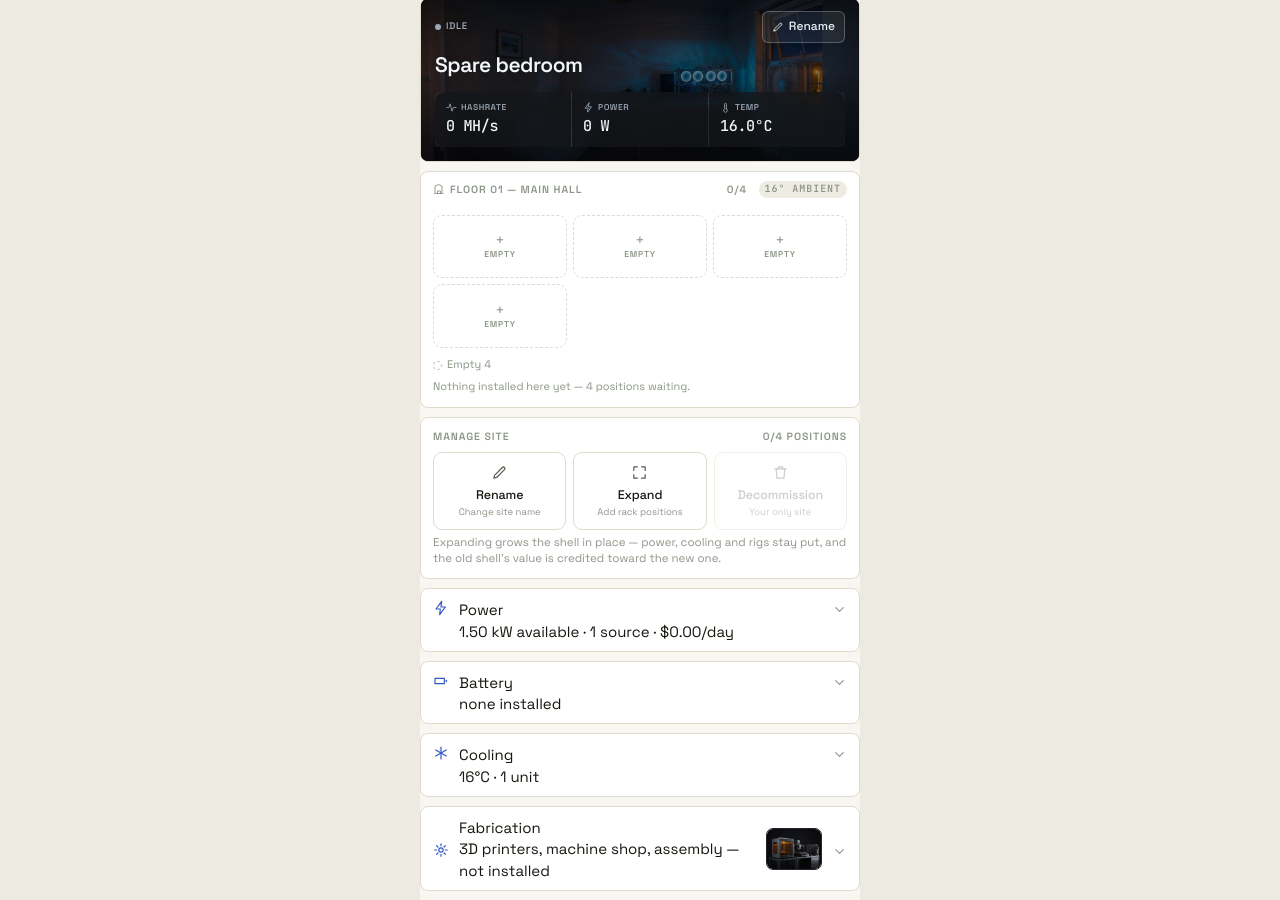
Scenario: SitesView › Fabrication › expanding shows the pitch and an Install button, and opens the tier picker
This screenshot has width=1280, height=900.
(page scrolled)
Click the button with class "rig-hd" that starts with "Fabrication": (640, 848) [421,806,859,890]
(page scrolled)
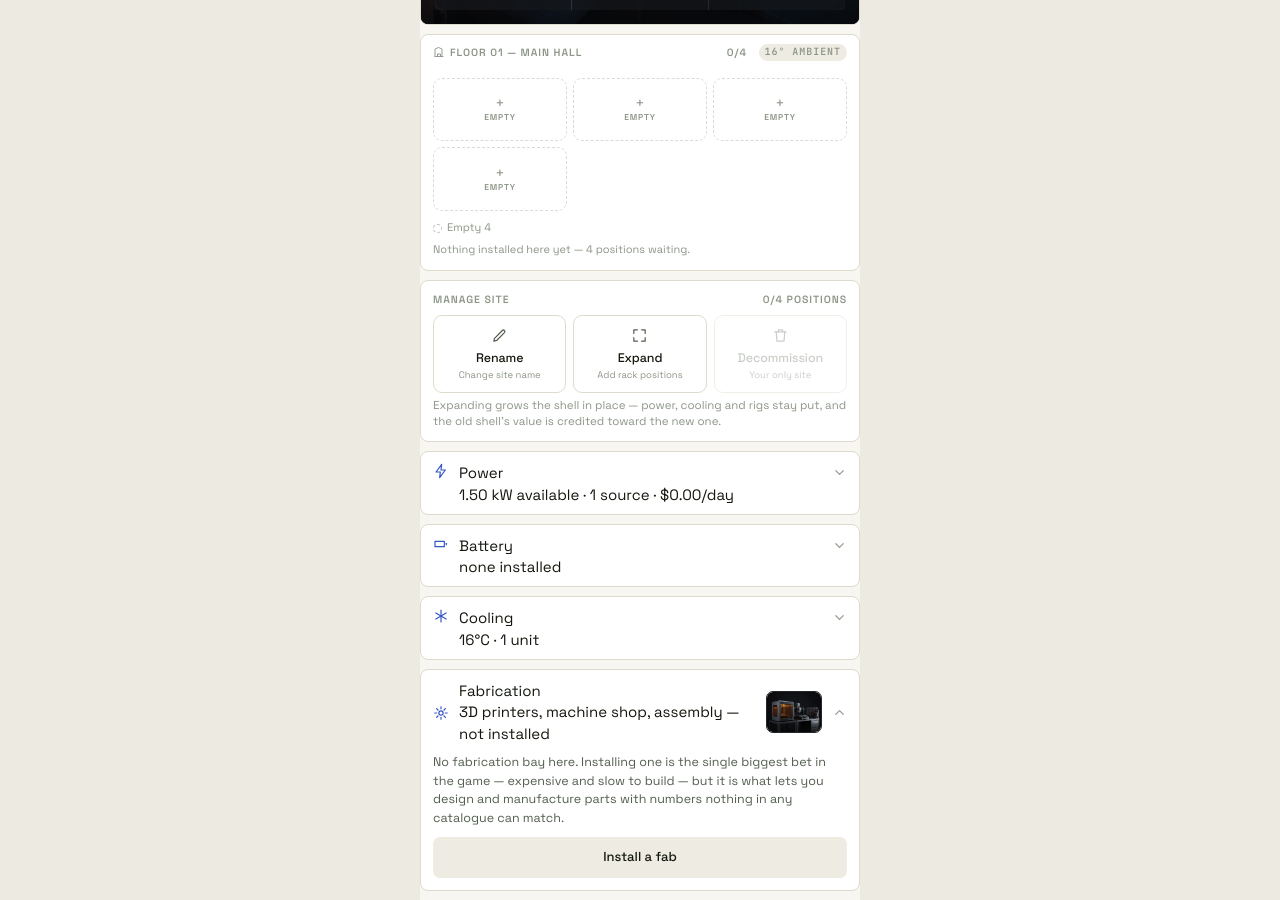
Expected: the text "single biggest bet in the game" is shown, [433,754,826,826]
Click the button "Install a fab": (640, 857) [433,837,847,878]
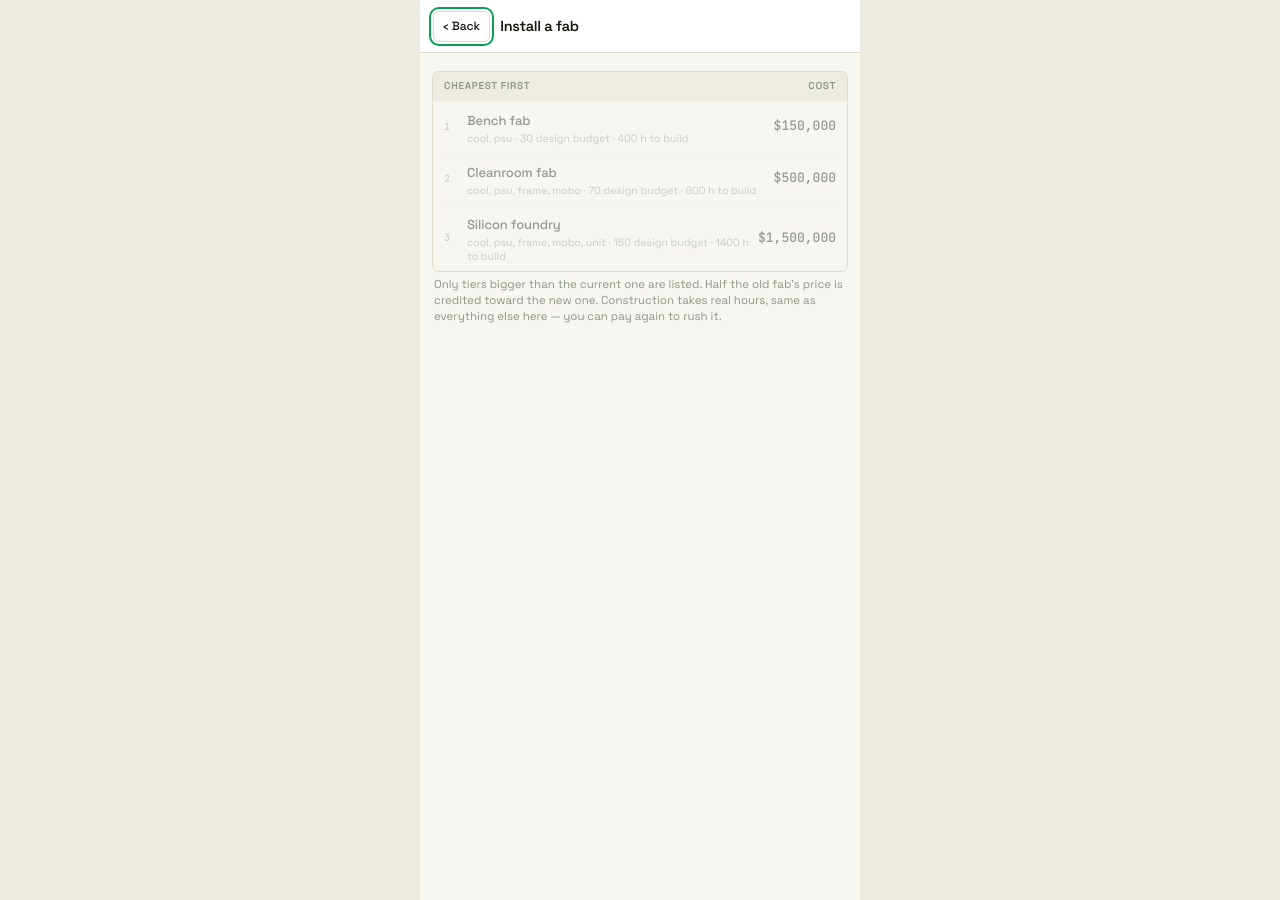
Expected: the dialog with class "sheet" is shown, [420,0,860,899]
Expected: the text "Bench fab" is shown, [467,112,530,129]
Expected: the text "Cleanroom fab" is shown, [467,164,557,181]
